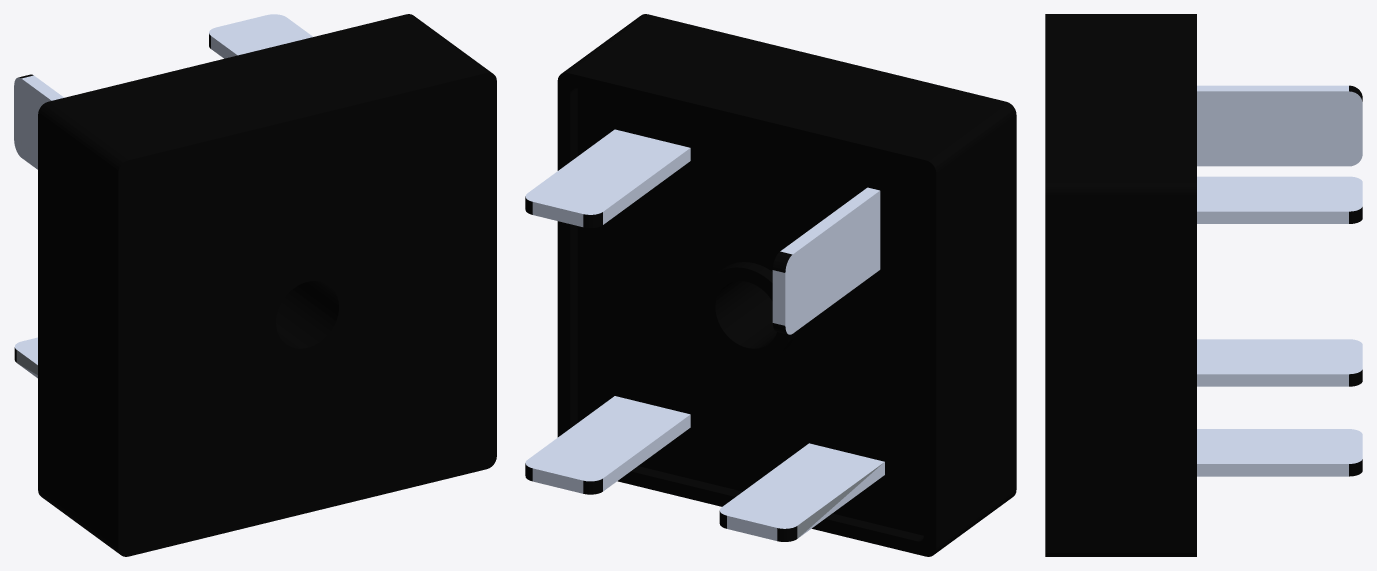
Rendered from ponte.glb.
3 views of the same model, side by side, from view 1: azimuth 30°, elevation 25°; view 2: azimuth 150°, elevation 25°; view 3: azimuth 270°, elevation 25° (orthographic). The views are drawn at different scales.
Visible parts, largest first — view 1: Node1; view 2: Node1; view 3: Node1.
Part boxes in pixels (x1,y1,x2,y2): Node1: (14,14,496,556); Node1: (525,14,1016,556); Node1: (1045,14,1362,556).
Size of the model in its own units: 3 by 3 by 2.3.
